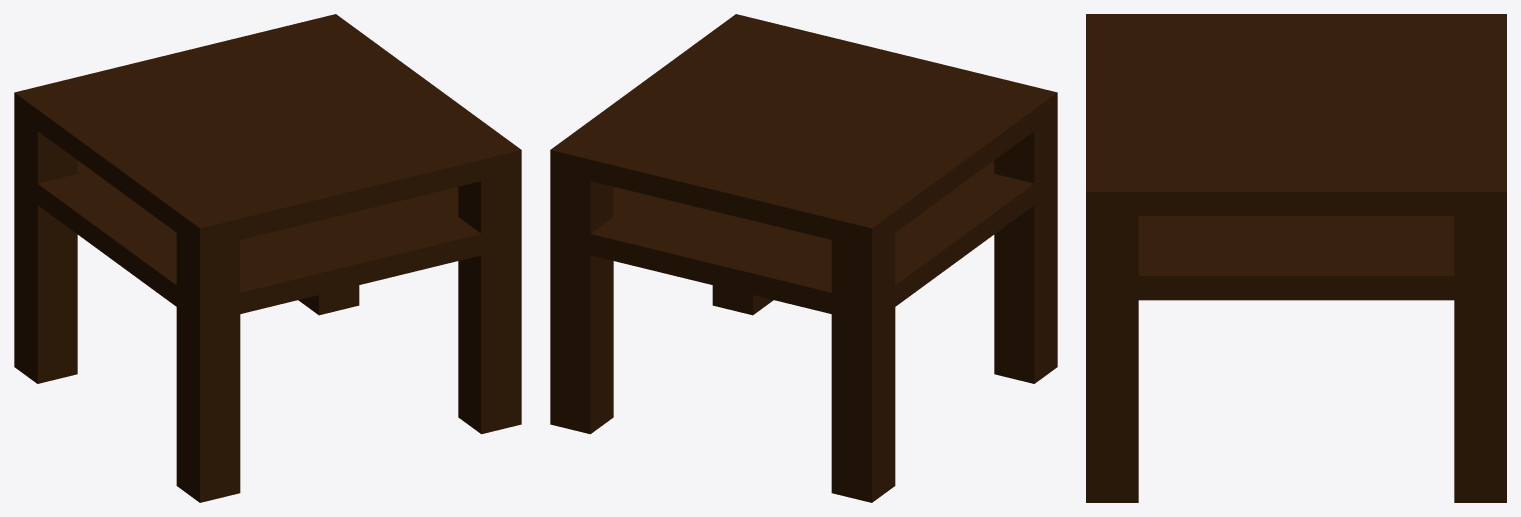
File: mesa_pequena.fbx
3 views of the same model, side by side, from view 1: azimuth 30°, elevation 25°; view 2: azimuth 150°, elevation 25°; view 3: azimuth 270°, elevation 25° (orthographic). The views are drawn at different scales.
Parts seen in each view (by area): view 1: Cube.000, Cube.005; view 2: Cube.000, Cube.005; view 3: Cube.000, Cube.005.
Part boxes in pixels (box(x1,y1,x2,y2)): Cube.000: box(14, 14, 521, 428); Cube.005: box(14, 160, 521, 502); Cube.000: box(550, 14, 1057, 359); Cube.005: box(550, 160, 1057, 502); Cube.000: box(1086, 14, 1506, 418); Cube.005: box(1086, 216, 1506, 502).
Size of the model in its own units: 0.2364 by 0.1929 by 0.2364.
